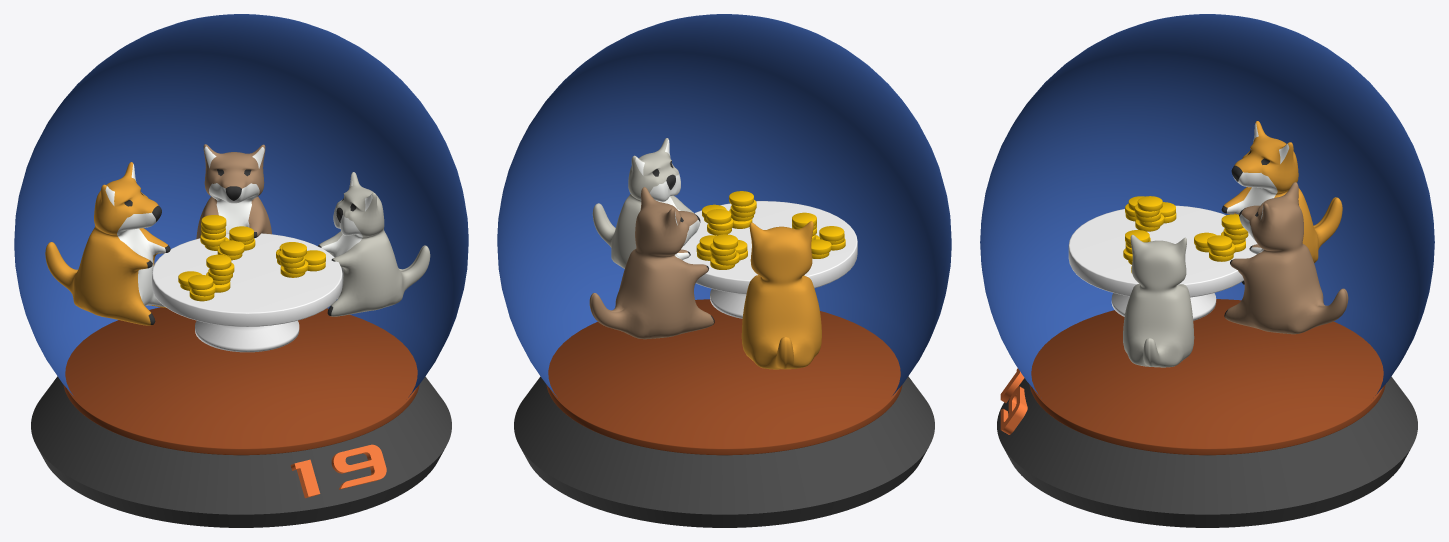
The model's file is Curio_19.glb.
3 renders of one model, left to right at view 1: azimuth 30°, elevation 25°; view 2: azimuth 150°, elevation 25°; view 3: azimuth 270°, elevation 25°, orthographic.
Parts seen in each view (by area): view 1: Sphere.065, Cube.003, Sphere.064, Sphere.063, Text.026; view 2: Sphere.065, Sphere.064, Cube.003, Sphere.063; view 3: Sphere.065, Sphere.064, Cube.003, Sphere.063, Text.026.
Boxes of the visible parts, x1=… form: Sphere.065: x1=14, y1=14, x2=468, y2=397; Cube.003: x1=45, y1=144, x2=430, y2=352; Sphere.064: x1=63, y1=307, x2=419, y2=455; Sphere.063: x1=31, y1=376, x2=451, y2=527; Text.026: x1=290, y1=444, x2=386, y2=498; Sphere.065: x1=497, y1=14, x2=951, y2=397; Sphere.064: x1=546, y1=299, x2=902, y2=455; Cube.003: x1=589, y1=138, x2=857, y2=369; Sphere.063: x1=514, y1=376, x2=934, y2=527; Sphere.065: x1=980, y1=14, x2=1434, y2=395; Sphere.064: x1=1029, y1=299, x2=1385, y2=455; Cube.003: x1=1068, y1=121, x2=1348, y2=367; Sphere.063: x1=997, y1=376, x2=1417, y2=527; Text.026: x1=1000, y1=368, x2=1027, y2=434.
Bounding box in the file's own units: 4.66 × 4.62 × 4.66.
